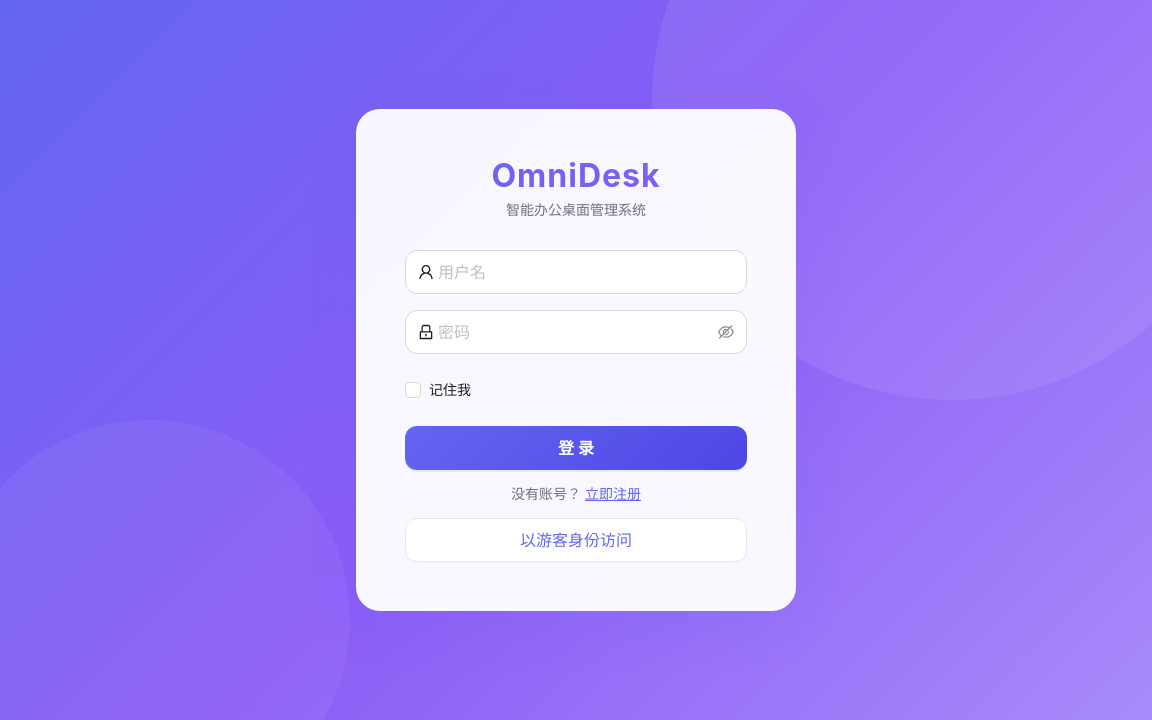
Test: Login Component › should display an error if login is attempted with empty credentials
Click the button "登 录": [576, 448] box [405,426,747,470]
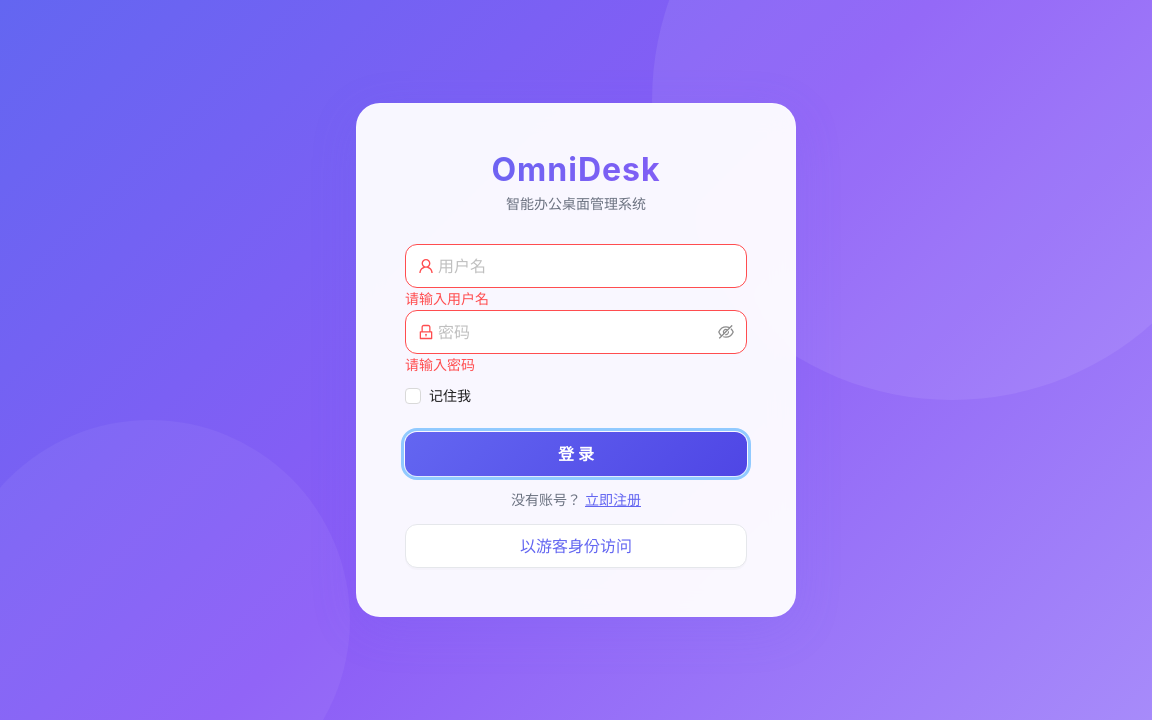
Check: the text "请输入用户名" is shown, box [405,290,489,307]
